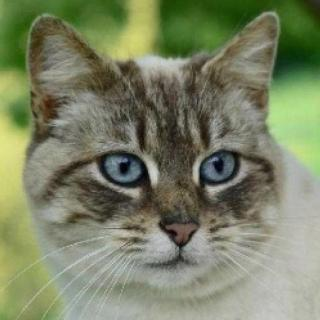cat: (28, 11, 285, 303)
nose: (154, 203, 203, 250)
